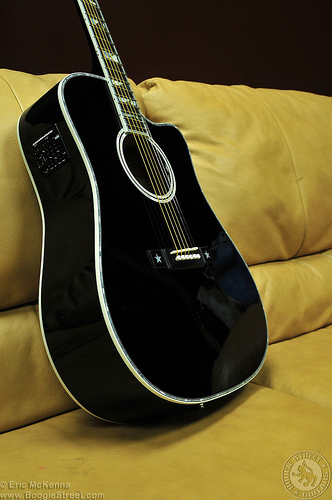guitar: (15, 1, 270, 435)
